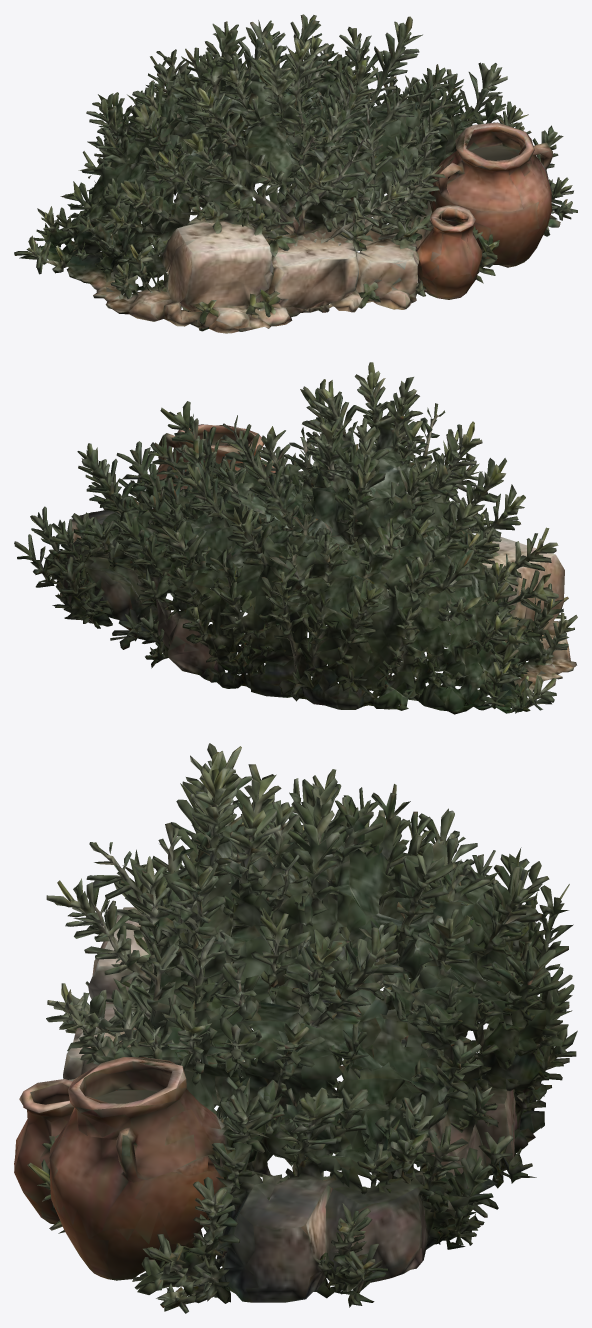
The model's file is olive-wall-cluster-b.glb.
3 renders of one model, top to bottom at view 1: azimuth 30°, elevation 25°; view 2: azimuth 150°, elevation 25°; view 3: azimuth 270°, elevation 25°, orthographic. The views are drawn at different scales.
Visible parts, largest first — view 1: geometry_0; view 2: geometry_0; view 3: geometry_0.
Boxes of the visible parts, x1,y1,x2,y2 form: geometry_0: (14,14,577,333); geometry_0: (14,362,577,714); geometry_0: (14,743,577,1313).
Bounding box in the file's own units: 2.27 × 1.05 × 1.43.
Materials: 1 (1 with a texture image).
